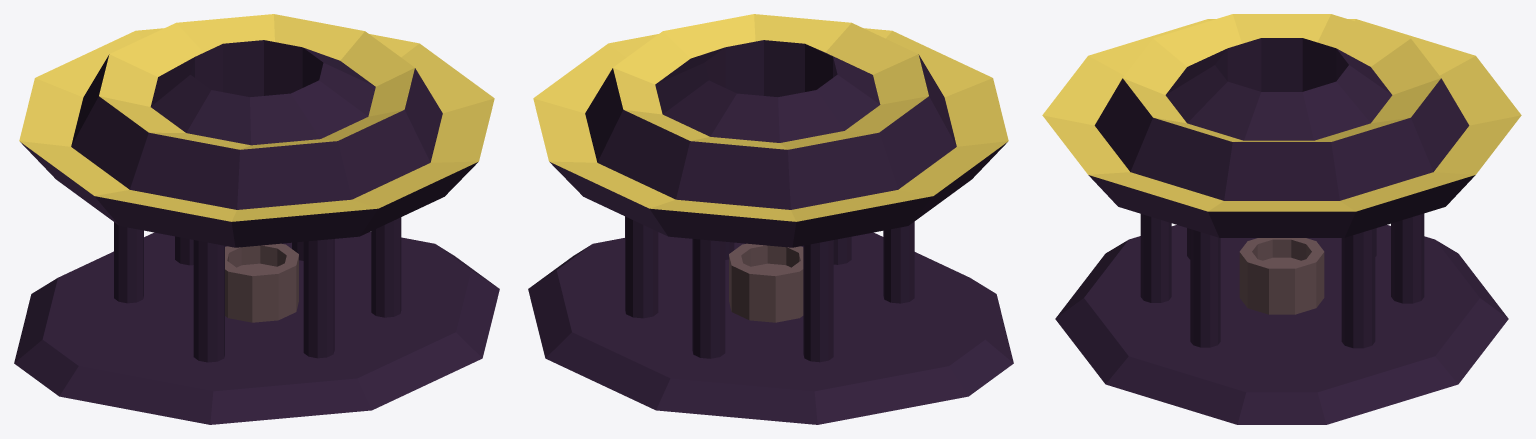
File: temple.fbx
3 views of the same model, side by side, from view 1: azimuth 30°, elevation 25°; view 2: azimuth 150°, elevation 25°; view 3: azimuth 270°, elevation 25° (orthographic).
Visible parts, largest first — view 1: Temple; view 2: Temple; view 3: Temple.
Boxes of the visible parts, x1,y1,x2,y2 form: Temple: [14, 14, 499, 424]; Temple: [528, 14, 1013, 424]; Temple: [1042, 14, 1521, 424].
Size of the model in its own units: 395 by 377 by 220.
